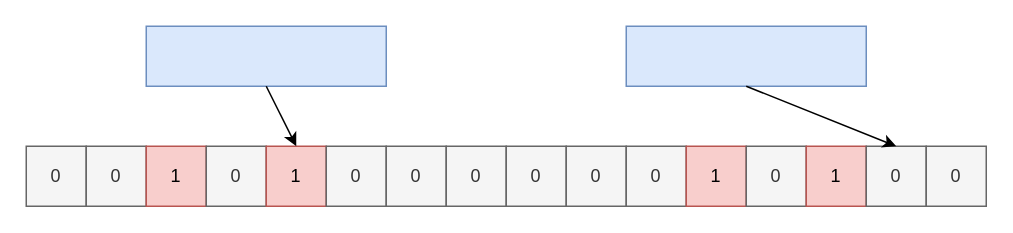
Image size: 1013x233. Some labels were removed from this diagram. The centre of each missing label's shape, as x and y in pixels:
"Hash函数F1(Kn)" goes at (x=265, y=55).
"Hash函数F2(Kn)" goes at (x=745, y=55).
